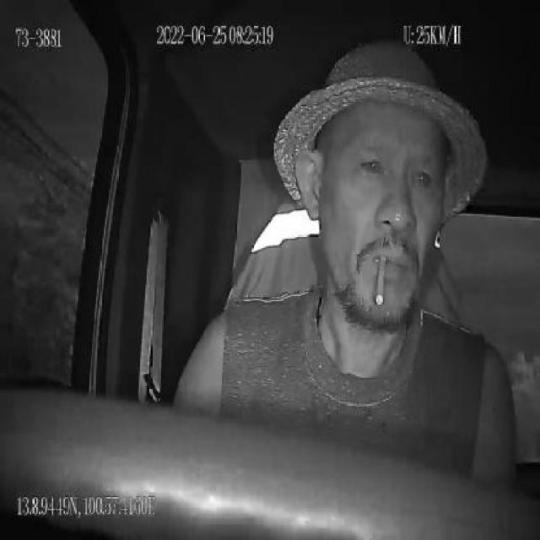smoking: (373, 250, 388, 310)
